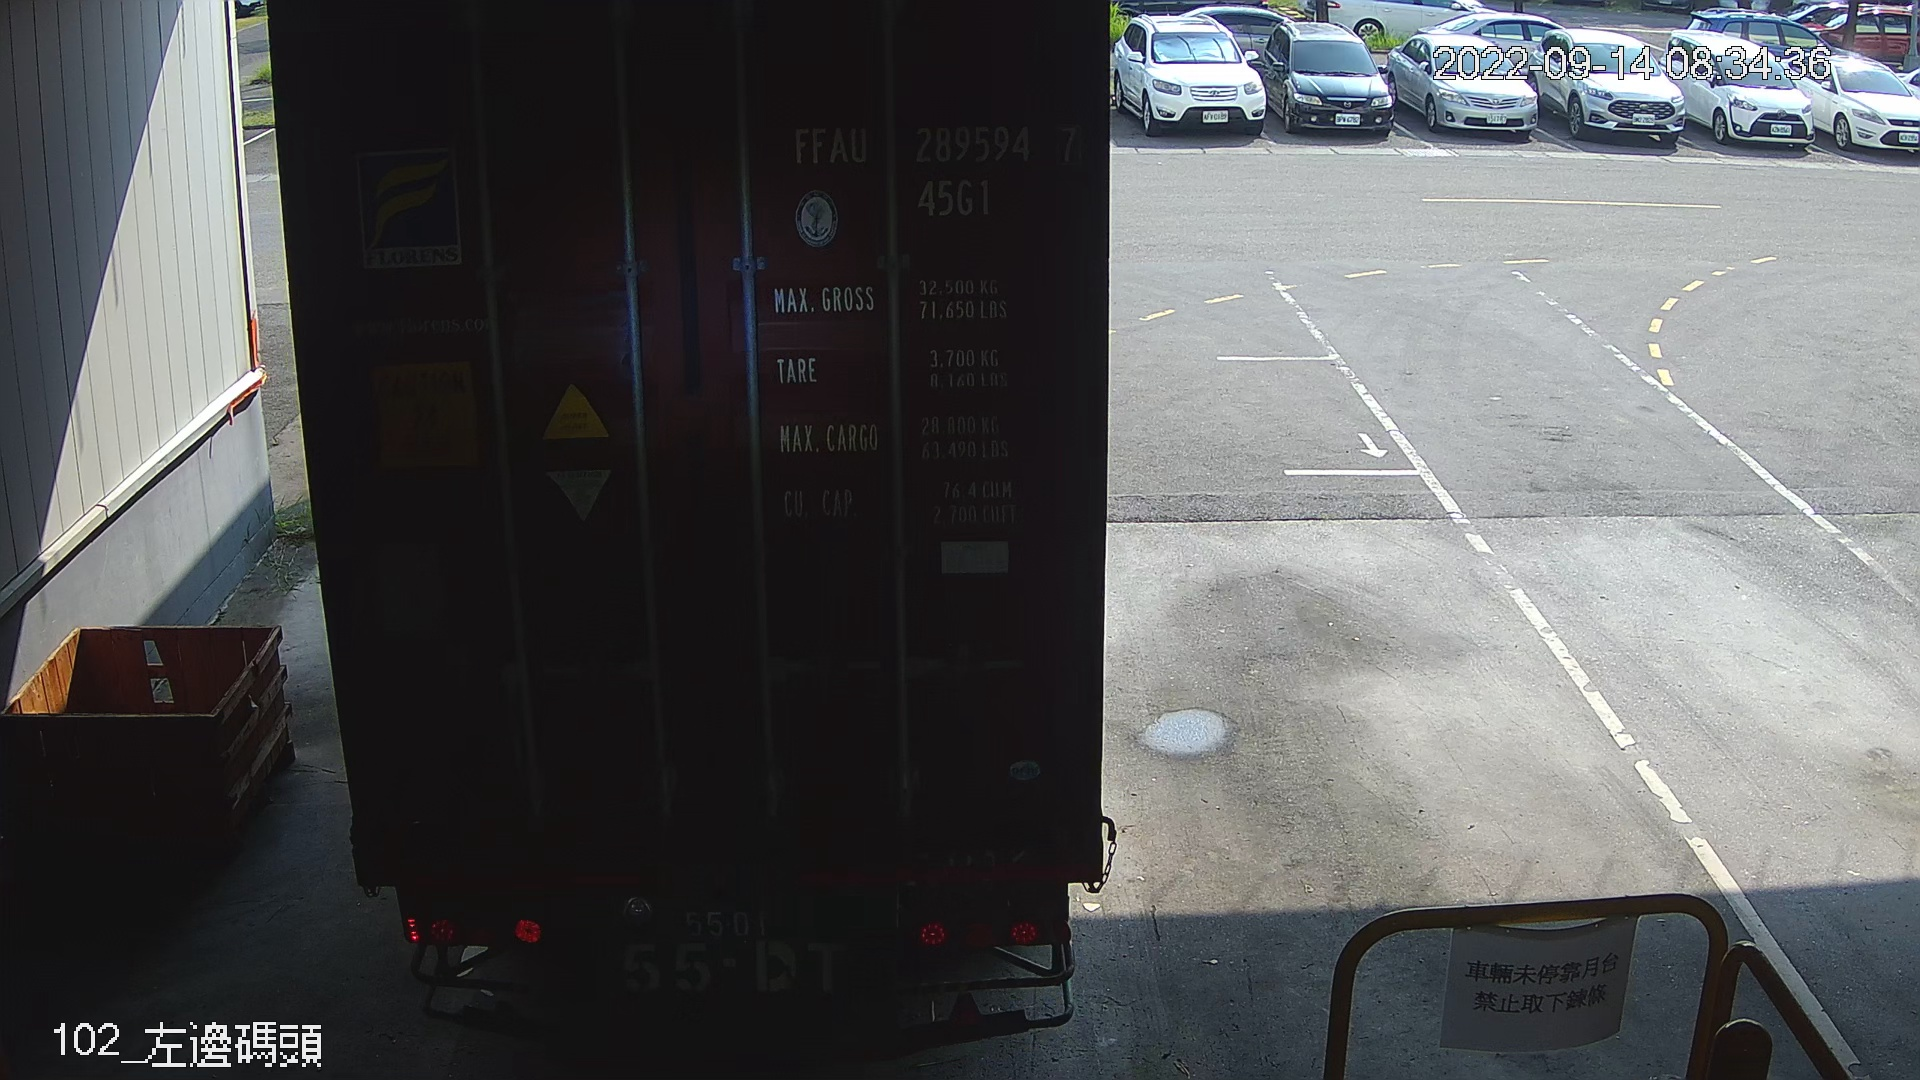container: (779, 109, 1087, 224)
